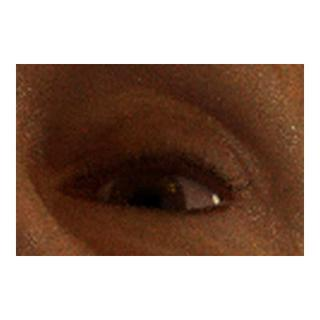pupil: (130, 189, 161, 219)
